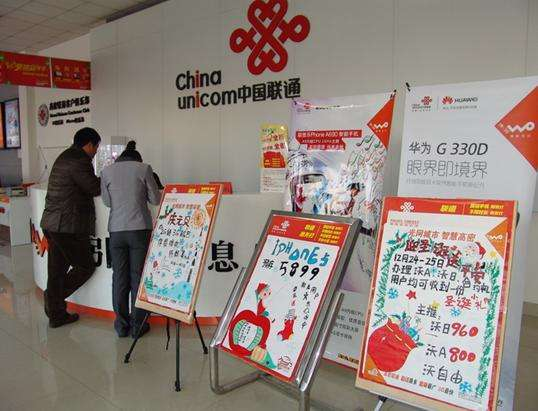bill: (378, 83, 538, 406), (356, 195, 521, 411), (283, 88, 392, 378), (217, 210, 355, 383), (136, 184, 220, 314), (259, 123, 286, 192)
